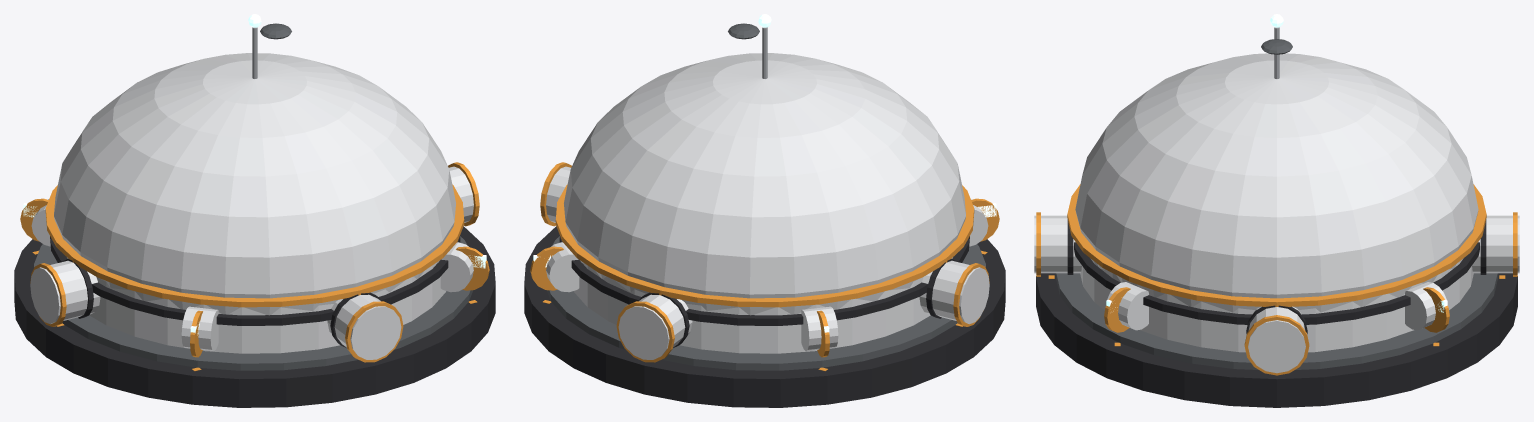
File: SM_Hero_Commons.fbx
The picture shows the model from 3 angles, left to right: view 1: azimuth 30°, elevation 25°; view 2: azimuth 150°, elevation 25°; view 3: azimuth 270°, elevation 25°; orthographic projection.
Parts seen in each view (by area): view 1: SM_Hero_Commons; view 2: SM_Hero_Commons; view 3: SM_Hero_Commons.
Boxes of the visible parts, x1=… form: SM_Hero_Commons: x1=14, y1=14, x2=495, y2=407; SM_Hero_Commons: x1=524, y1=14, x2=1005, y2=407; SM_Hero_Commons: x1=1034, y1=14, x2=1519, y2=407.
Size of the model in its own units: 8.4 by 6.23 by 8.4.
